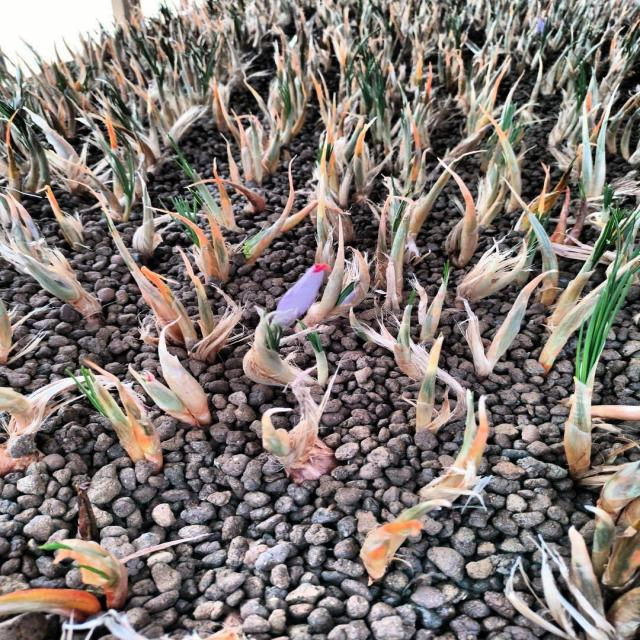Flower: (270, 258, 334, 332)
stigma: (307, 256, 331, 279)
